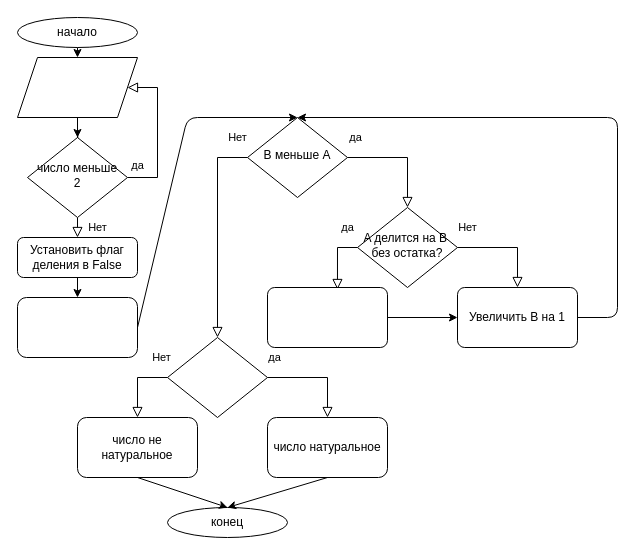
Some shapes in this 643 by 555 pixel diagram are drawn without their labels. Each missing label, with the centre of its shape:
"ввод числа A больше 1" belongs at point 77,87.
"задать число B с значением 2" belongs at point 77,327.
"Установить флаг деления в True" belongs at point 327,317.
"Флаг имеет значение False?" belongs at point 217,377.
